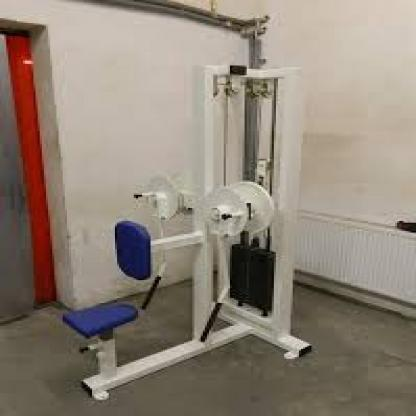lateral raises machine: (65, 61, 311, 400)
